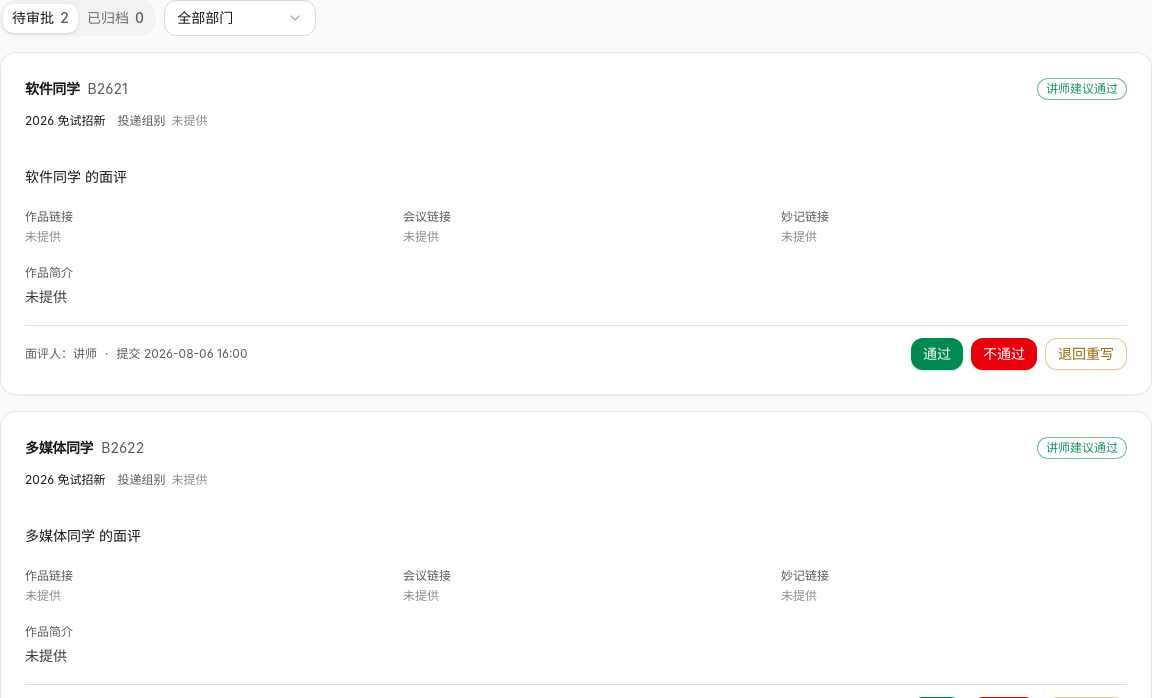
ApprovalsContent › lets administrators filter the list by department
This screenshot has width=1152, height=698.
Expected: the button "软件同学" is shown, x1=25 y1=77 x2=80 y2=101
Expected: the button "多媒体同学" is shown, x1=25 y1=436 x2=93 y2=460
Click the dropdown named "按部门筛选".
click(240, 18)  # box x1=164 y1=0 x2=316 y2=36
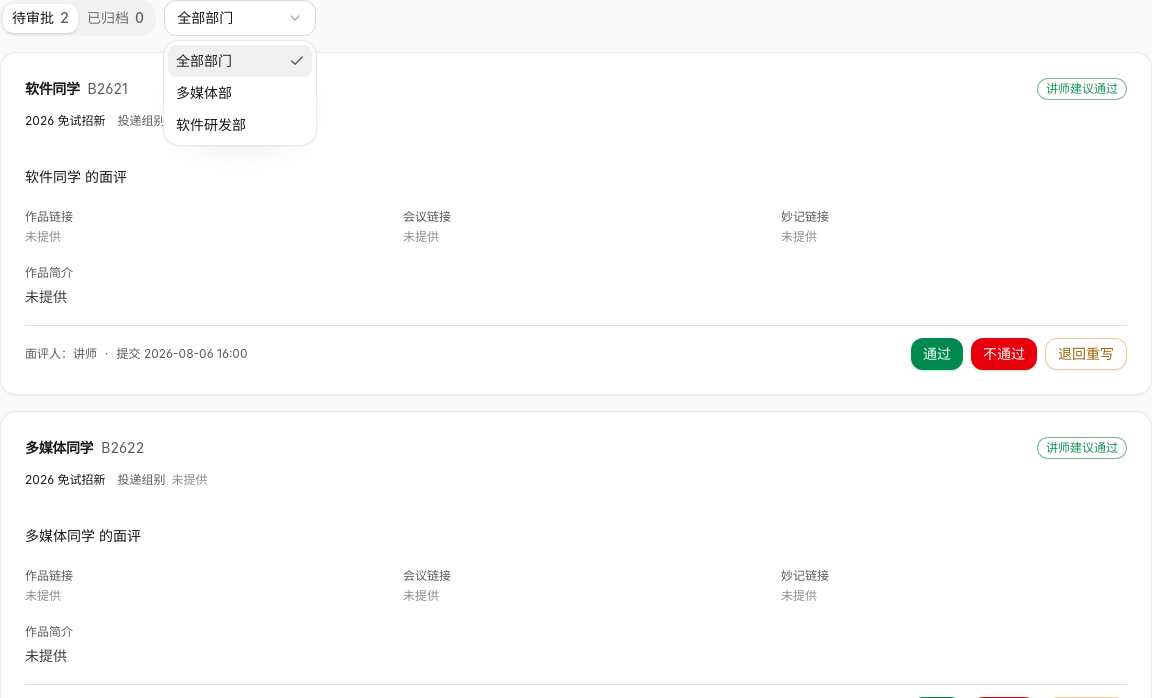
Click the option "多媒体部".
click(204, 92)  # box x1=176 y1=84 x2=232 y2=101
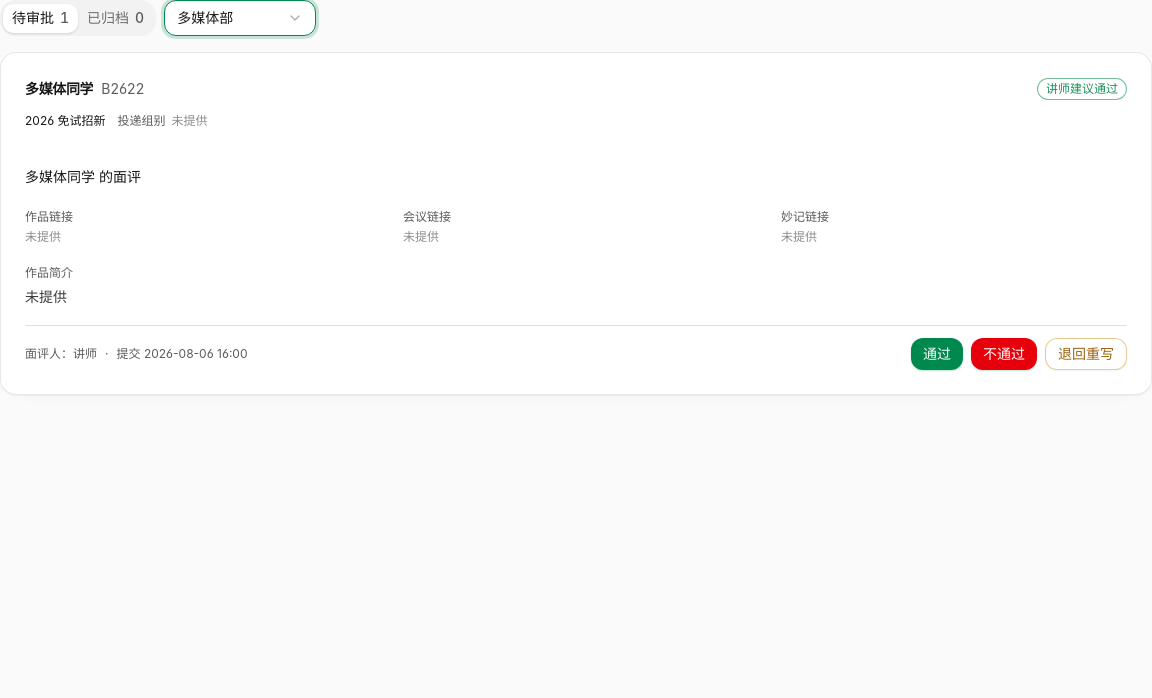
Expected: the button "多媒体同学" is shown, x1=25 y1=77 x2=93 y2=101
Expected: the button "软件同学" is gone
